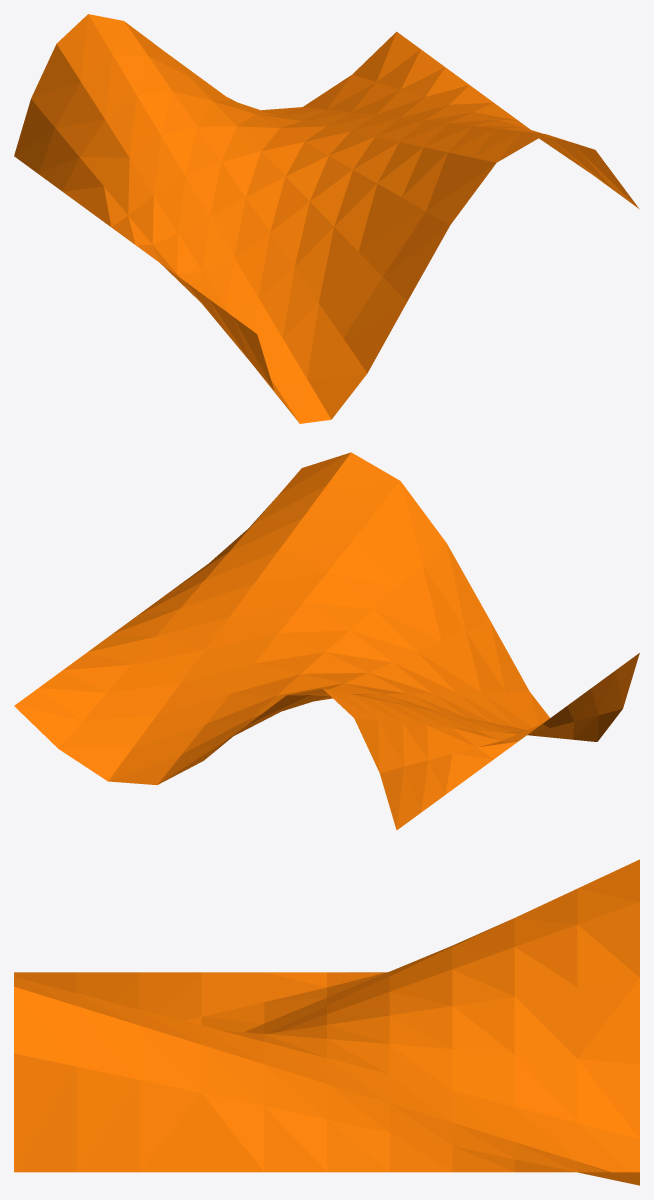
File: meshtest.dae
3 views of the same model, one above another, from view 1: azimuth 30°, elevation 25°; view 2: azimuth 150°, elevation 25°; view 3: azimuth 270°, elevation 25° (orthographic). The views are drawn at different scales.
Visible parts, largest first — view 1: Component; view 2: Component; view 3: Component.
Part boxes in pixels (x1,y1,x2,y2): Component: [14, 14, 639, 423]; Component: [14, 452, 639, 830]; Component: [14, 859, 639, 1185].
Size of the model in its own units: 227 by 250 by 132.
